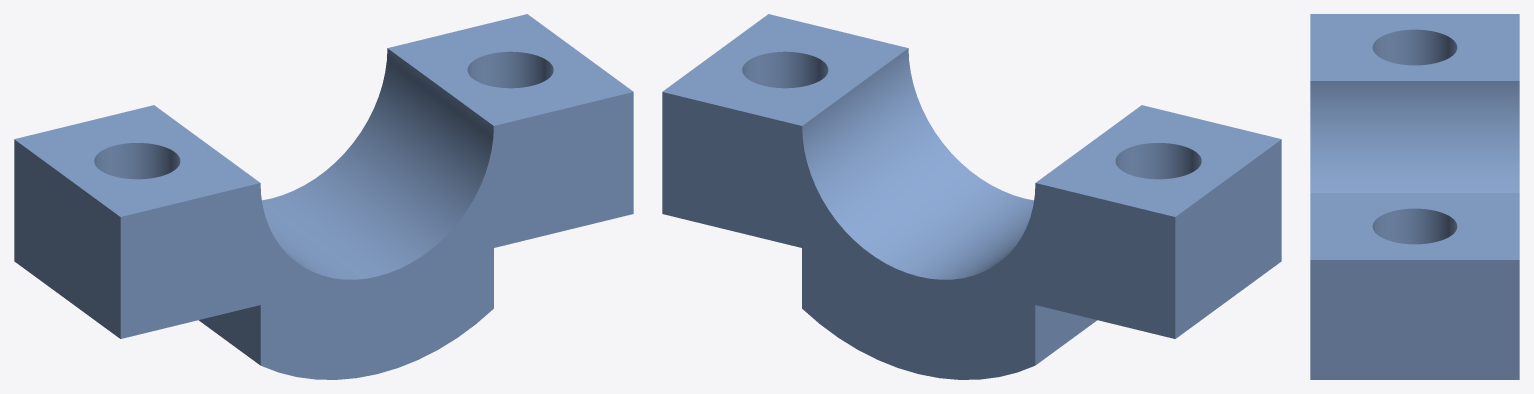
The model's file is step_26.glb.
The picture shows the model from 3 angles, left to right: view 1: azimuth 30°, elevation 25°; view 2: azimuth 150°, elevation 25°; view 3: azimuth 270°, elevation 25°; orthographic projection.
Parts seen in each view (by area): view 1: part__big end cap; view 2: part__big end cap; view 3: part__big end cap.
Boxes of the visible parts, left/top/right/bottom form: part__big end cap: left=14, top=14, right=633, bottom=379; part__big end cap: left=662, top=14, right=1281, bottom=379; part__big end cap: left=1310, top=14, right=1519, bottom=379.
Bounding box in the file's own units: 44 × 18 × 15.8.
